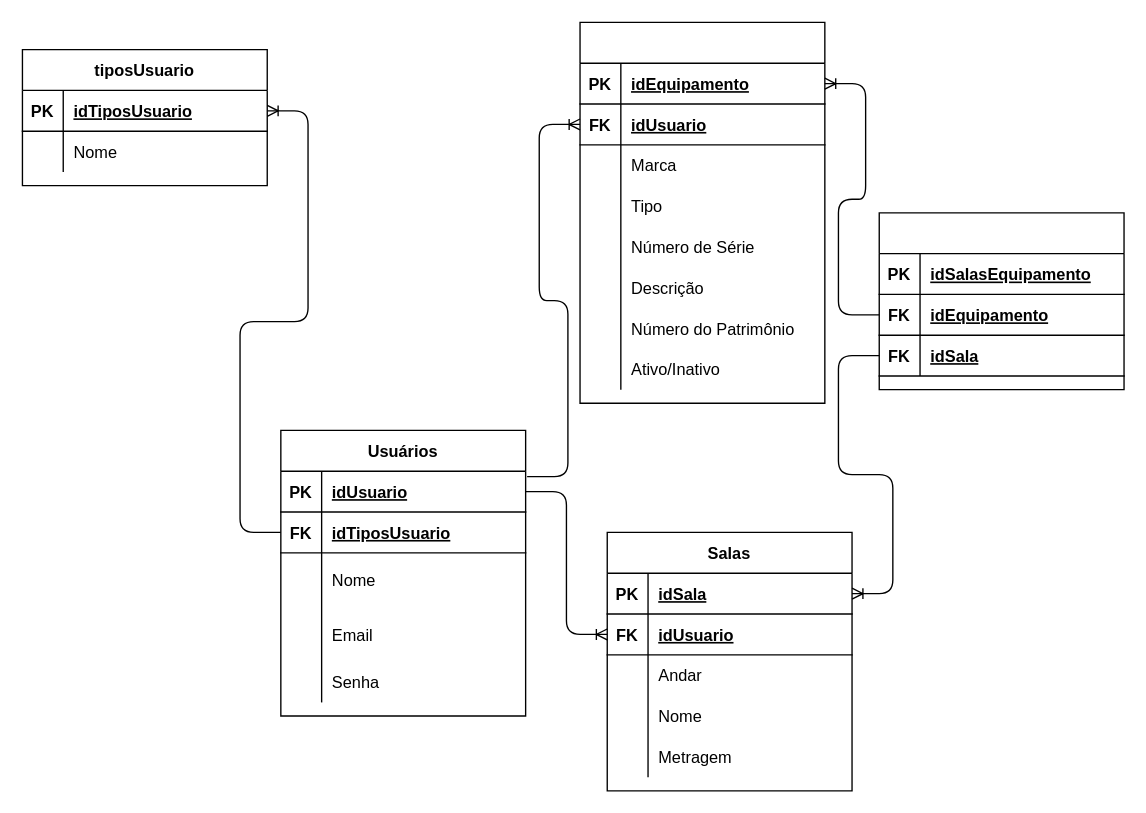
Some shapes in this 1146 by 813 pixel diagram are drawn without their labels. Each missing label, with the box of its shape:
Equipamentos: (579, 21, 825, 403)
salasEquipamentos: (878, 211, 1124, 390)
